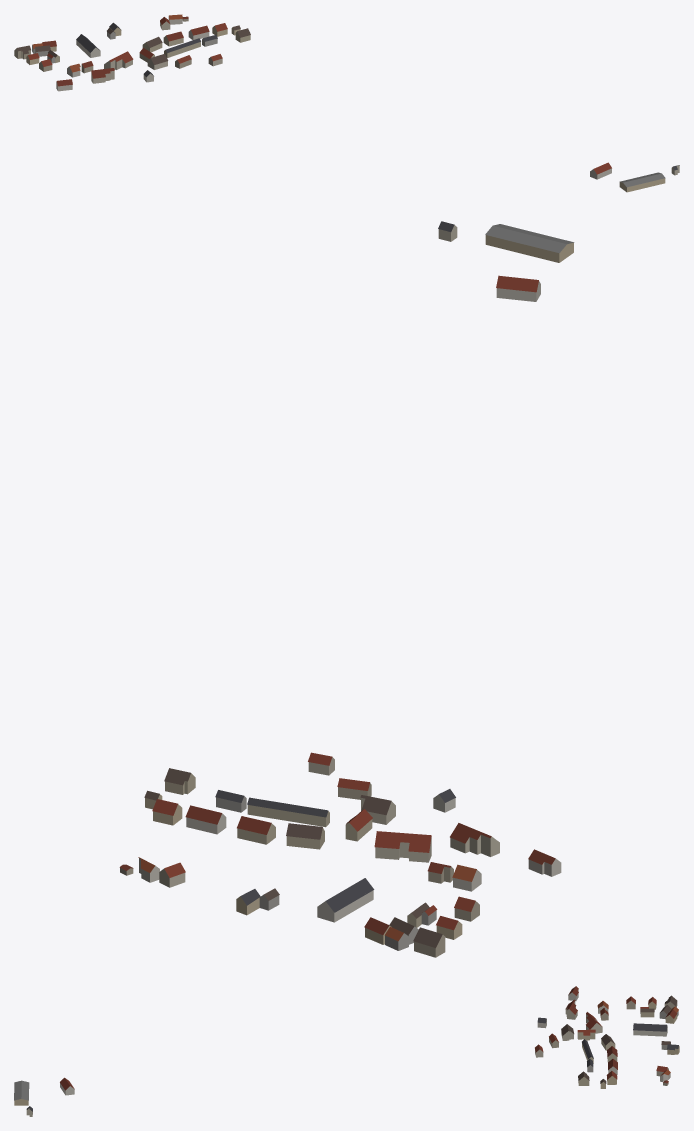
3 views of the same model, one above another, from view 1: azimuth 30°, elevation 25°; view 2: azimuth 150°, elevation 25°; view 3: azimuth 270°, elevation 25° (orthographic). The views are drawn at different scales.
Parts seen in each view (by area): view 1: buildings; view 2: buildings; view 3: buildings.
Boxes of the visible parts, x1,y1,x2,y2 form: buildings: [14, 14, 679, 192]; buildings: [119, 221, 574, 957]; buildings: [14, 986, 679, 1116].
Bounding box in the file's own units: 404 × 63.55 × 704.
